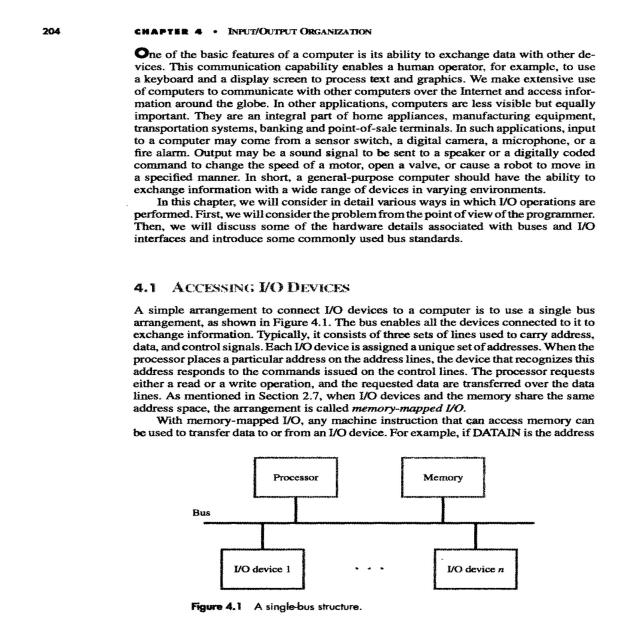diagram: (62, 446, 611, 630)
